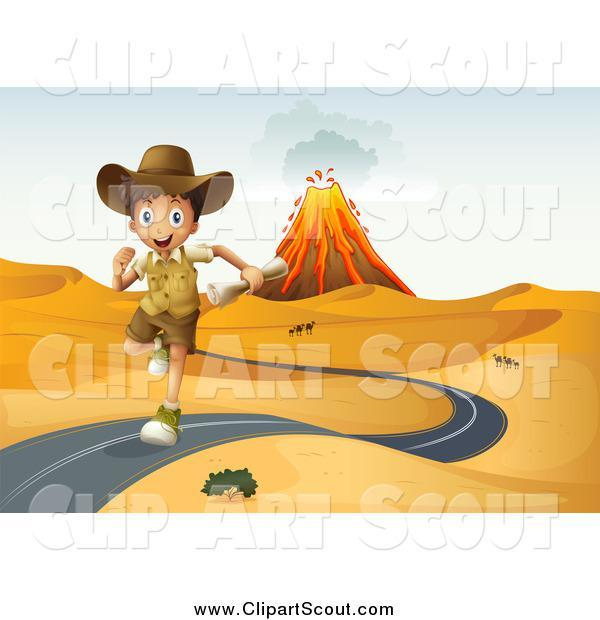person: (99, 149, 242, 457)
